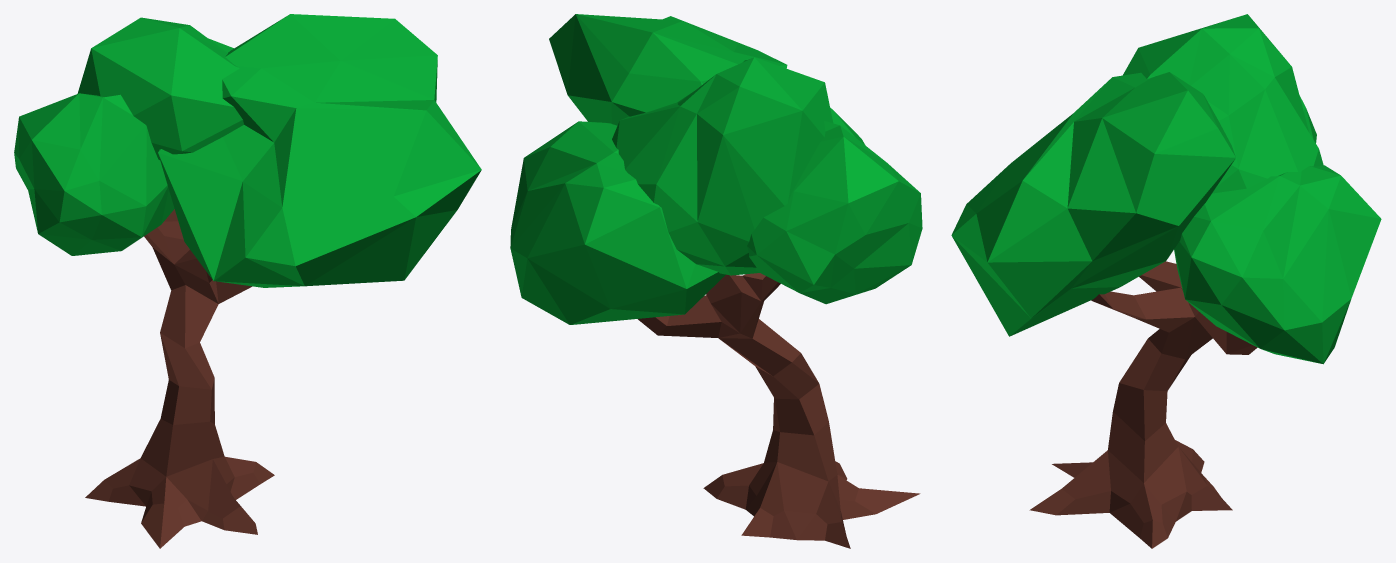
File: TreeA_04.fbx
3 views of the same model, side by side, from view 1: azimuth 30°, elevation 25°; view 2: azimuth 150°, elevation 25°; view 3: azimuth 270°, elevation 25° (orthographic). The views are drawn at different scales.
Visible parts, largest first — view 1: TreeA_04; view 2: TreeA_04; view 3: TreeA_04.
Part boxes in pixels (<box>): TreeA_04: <box>14,14,481,548</box>; TreeA_04: <box>510,14,922,548</box>; TreeA_04: <box>951,14,1381,548</box>.
Size of the model in its own units: 9.01 by 10.3 by 8.32.
